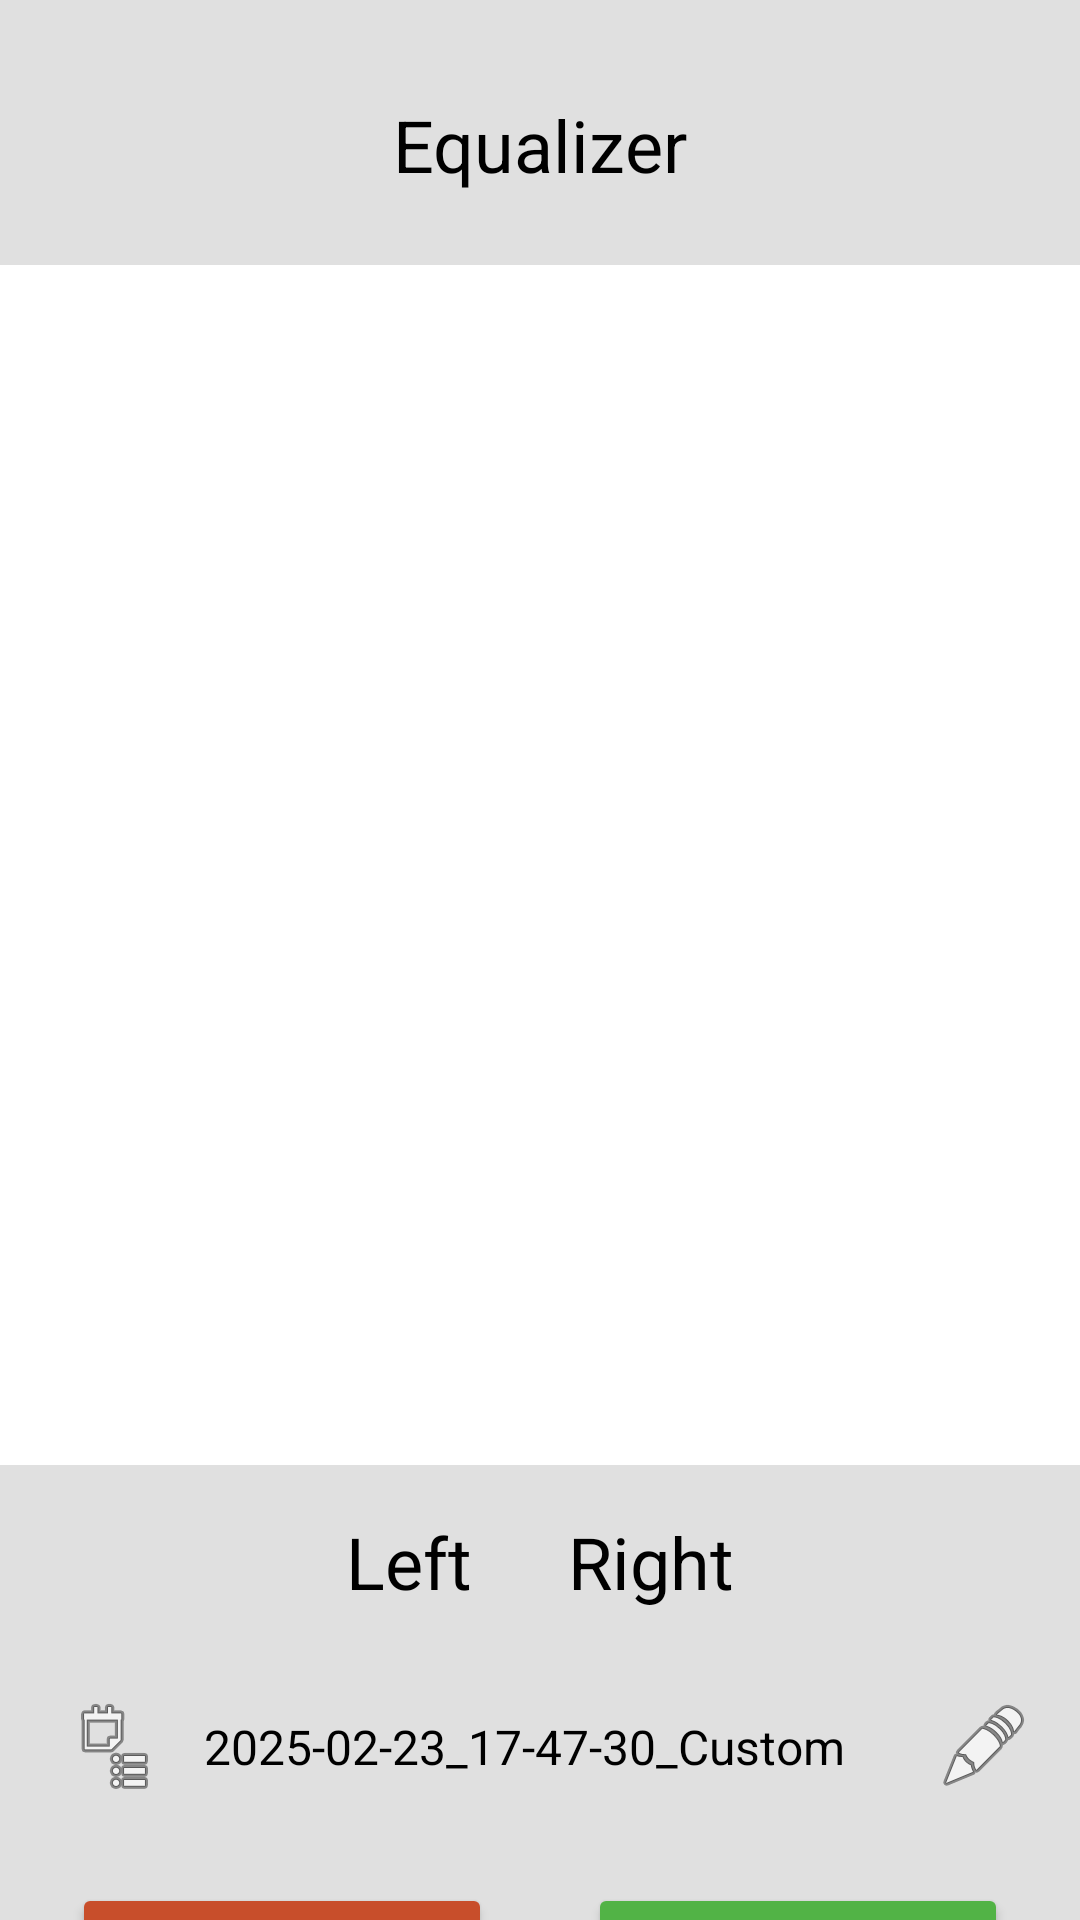

Icons on this 1080 × 1920 Android screen, each with the point to tap as [x,y]:
agenda: [114,1746]
edit: [983,1745]
